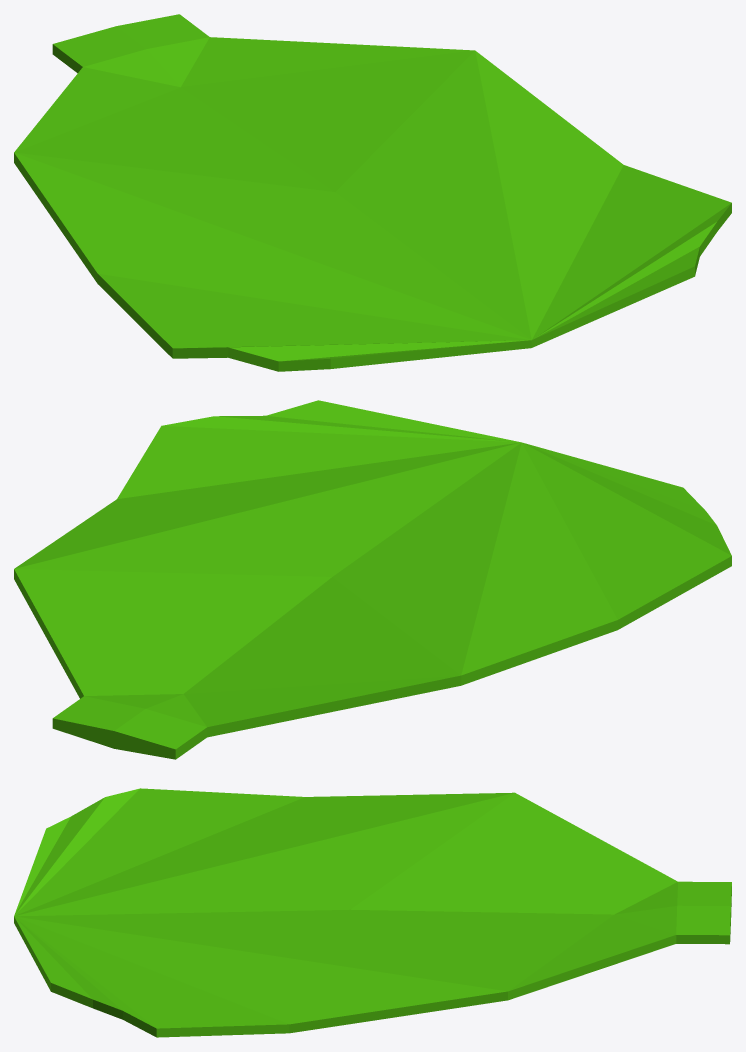
File: lettuce.fbx
3 views of the same model, one above another, from view 1: azimuth 30°, elevation 25°; view 2: azimuth 150°, elevation 25°; view 3: azimuth 270°, elevation 25° (orthographic). The views are drawn at different scales.
Visible parts, largest first — view 1: Cube; view 2: Cube; view 3: Cube.
Part boxes in pixels (x1,y1,x2,y2): Cube: [14, 14, 731, 371]; Cube: [14, 400, 731, 759]; Cube: [14, 788, 731, 1037].
Bounding box in the file's own units: 127 × 9.45 × 161.
